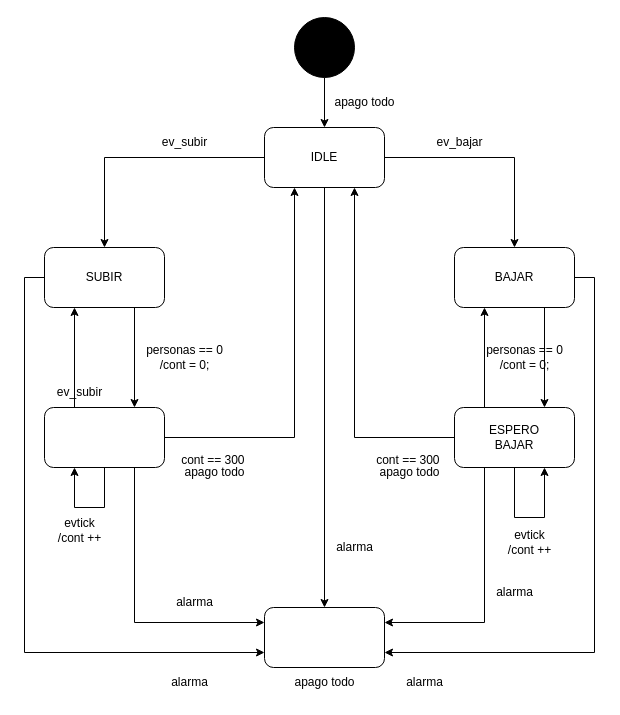
This 620x715 diagram has some shape labels left out. The shapes that lost their labels are listed below. From the top down, each one's centre as x and y in pixels, then its label:
At (104,437): "ESPERO SUBIR".
At (324,637): "ERROR".
